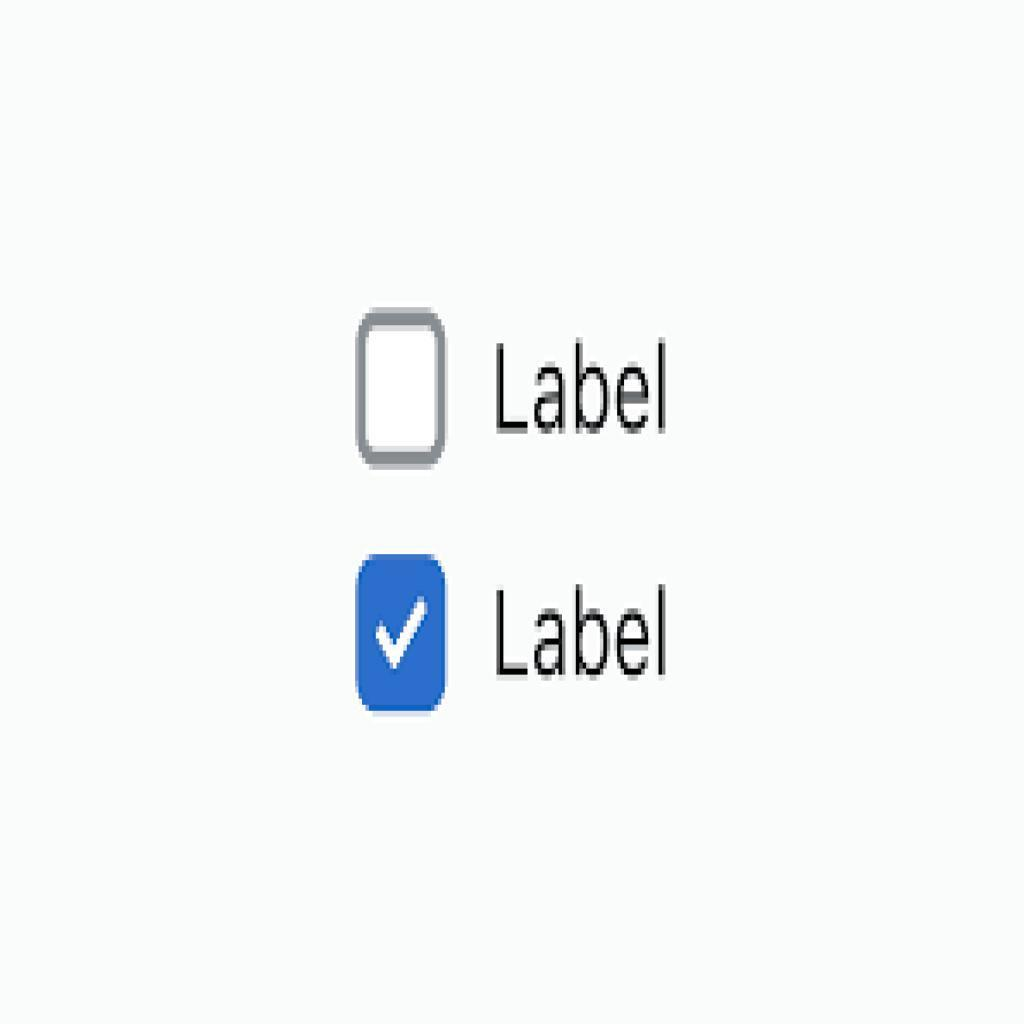checkbox: (359, 555, 447, 714), (359, 311, 448, 467)
label: (490, 325, 677, 453), (488, 574, 684, 690)
